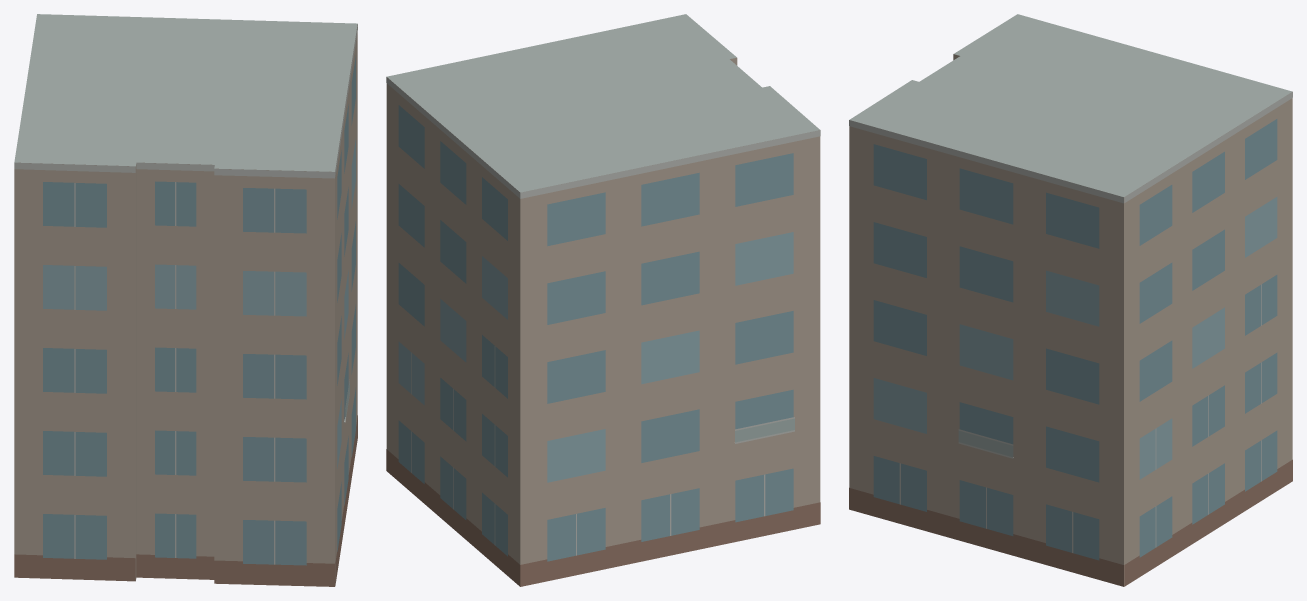
File: survey-upis-32588920.glb
3 views of the same model, side by side, from view 1: azimuth 30°, elevation 25°; view 2: azimuth 150°, elevation 25°; view 3: azimuth 270°, elevation 25° (orthographic). The views are drawn at different scales.
Visible parts, largest first — view 1: survey-upis-32588920.tmp; view 2: survey-upis-32588920.tmp; view 3: survey-upis-32588920.tmp.
Part boxes in pixels (x1=…): survey-upis-32588920.tmp: x1=14, y1=14, x2=357, y2=586; survey-upis-32588920.tmp: x1=386, y1=14, x2=820, y2=586; survey-upis-32588920.tmp: x1=849, y1=14, x2=1292, y2=586.
Size of the model in its own units: 15.44 by 15.3 by 15.8.
